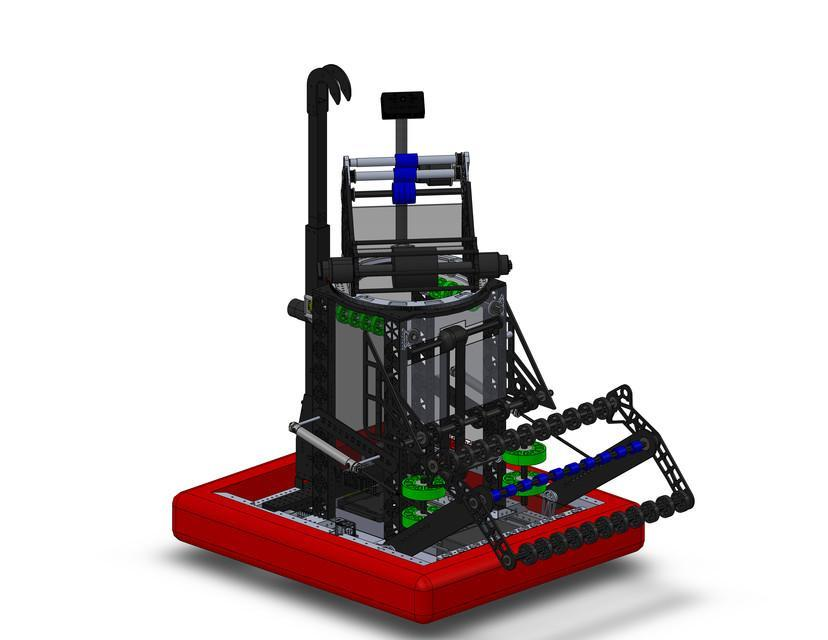robot: (165, 58, 696, 630)
